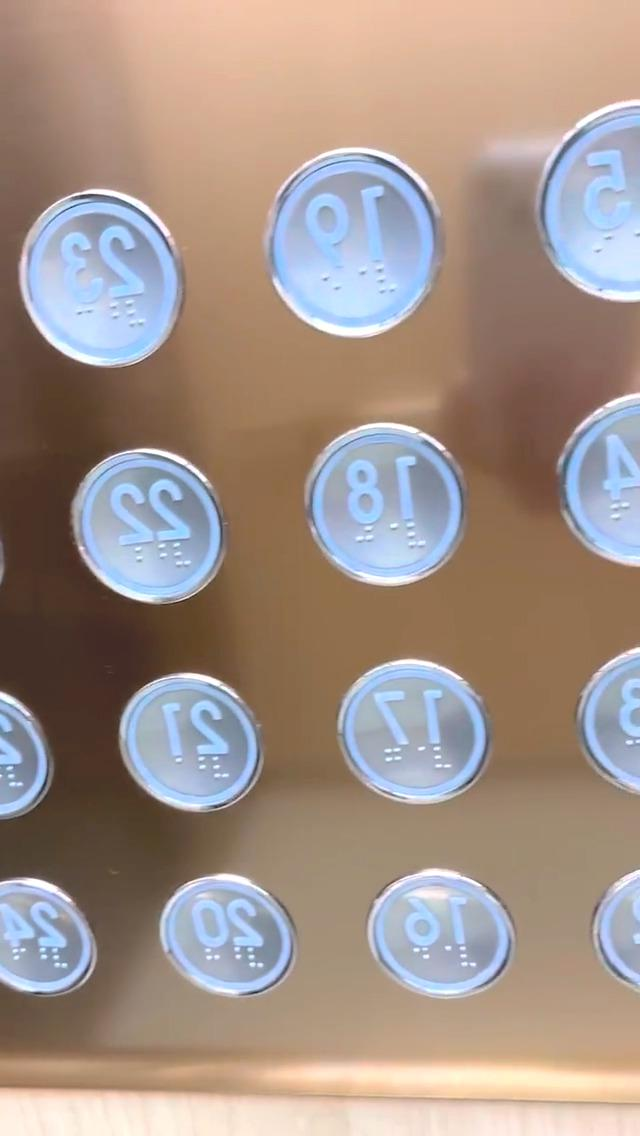button: (254, 136, 430, 330), (23, 190, 173, 380), (76, 441, 214, 616), (310, 426, 457, 587), (343, 661, 483, 809), (360, 864, 513, 997), (124, 673, 251, 820), (161, 879, 303, 1001), (0, 879, 97, 1016)
